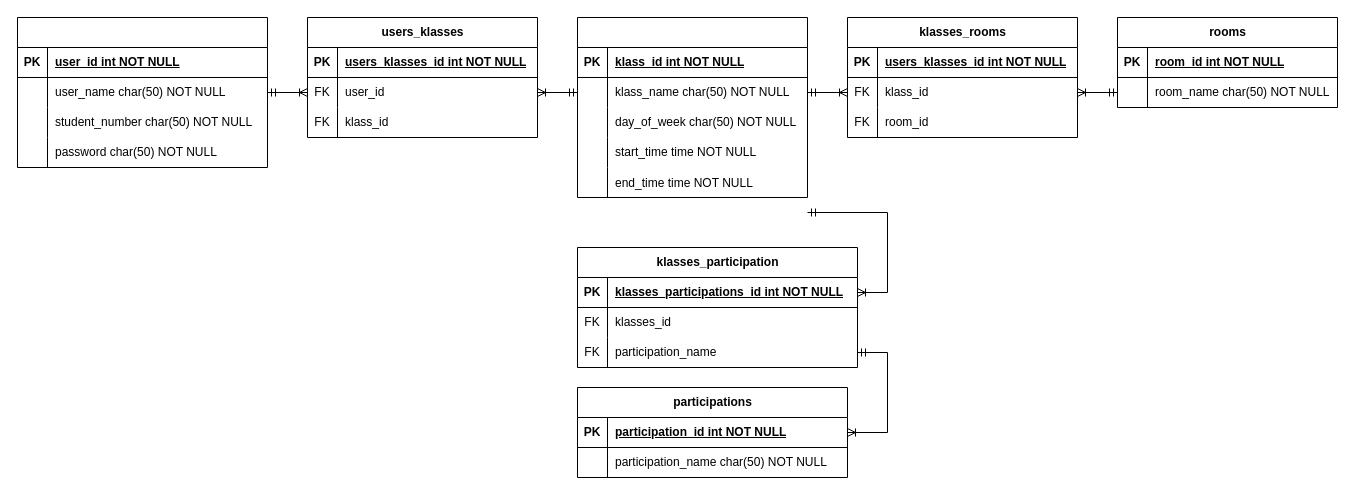
Image size: 1355x495. Some labels were removed from this diagram. Here are the shapes that lost their labels. From the top down, the box of each, then its label:
(16, 16, 268, 168): users
(576, 16, 808, 198): klasses
